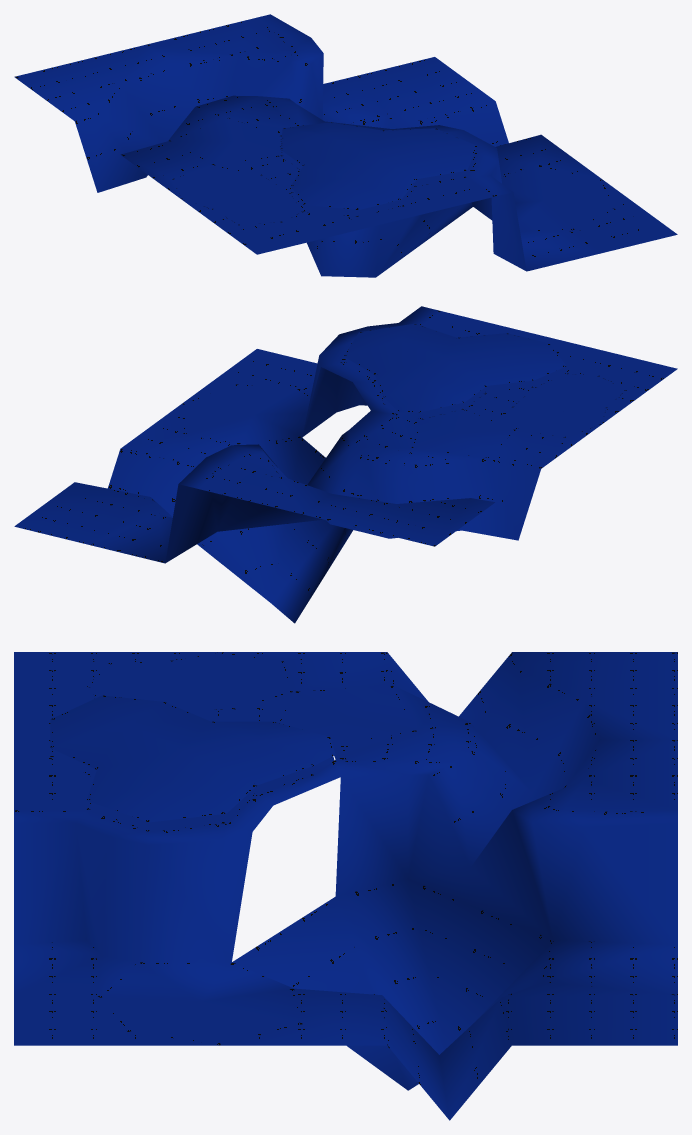
The model's file is GRD_S_C3_R2_1.fbx.
3 views of the same model, one above another, from view 1: azimuth 30°, elevation 25°; view 2: azimuth 150°, elevation 25°; view 3: azimuth 270°, elevation 25° (orthographic). The views are drawn at different scales.
Visible parts, largest first — view 1: material_00042000, material_C0032000, material_C0052000, material_C0012000, material_00022000, material_C0062000; view 2: material_00042000, material_C0032000, material_C0052000, material_C0012000, material_00022000, material_C0062000; view 3: material_00022000, material_00042000, material_C0032000, material_C0052000, material_C0012000, material_C0062000.
Boxes of the visible parts, <box> form: material_00042000: <box>14,19,677,271</box>; material_C0032000: <box>75,55,508,277</box>; material_C0052000: <box>168,117,616,231</box>; material_C0012000: <box>280,122,476,209</box>; material_00022000: <box>251,14,526,271</box>; material_C0062000: <box>280,150,476,216</box>; material_00042000: <box>14,311,677,563</box>; material_C0032000: <box>107,435,540,623</box>; material_C0052000: <box>181,373,626,458</box>; material_C0012000: <box>344,323,566,412</box>; material_00022000: <box>165,306,440,563</box>; material_C0062000: <box>344,358,566,418</box>; material_00022000: <box>14,759,677,962</box>; material_00042000: <box>14,652,677,1045</box>; material_C0032000: <box>232,652,599,1120</box>; material_C0052000: <box>87,652,418,1045</box>; material_C0012000: <box>50,695,335,822</box>; material_C0062000: <box>50,748,334,831</box>.
Size of the model in its own units: 12800 by 6000 by 12800.
